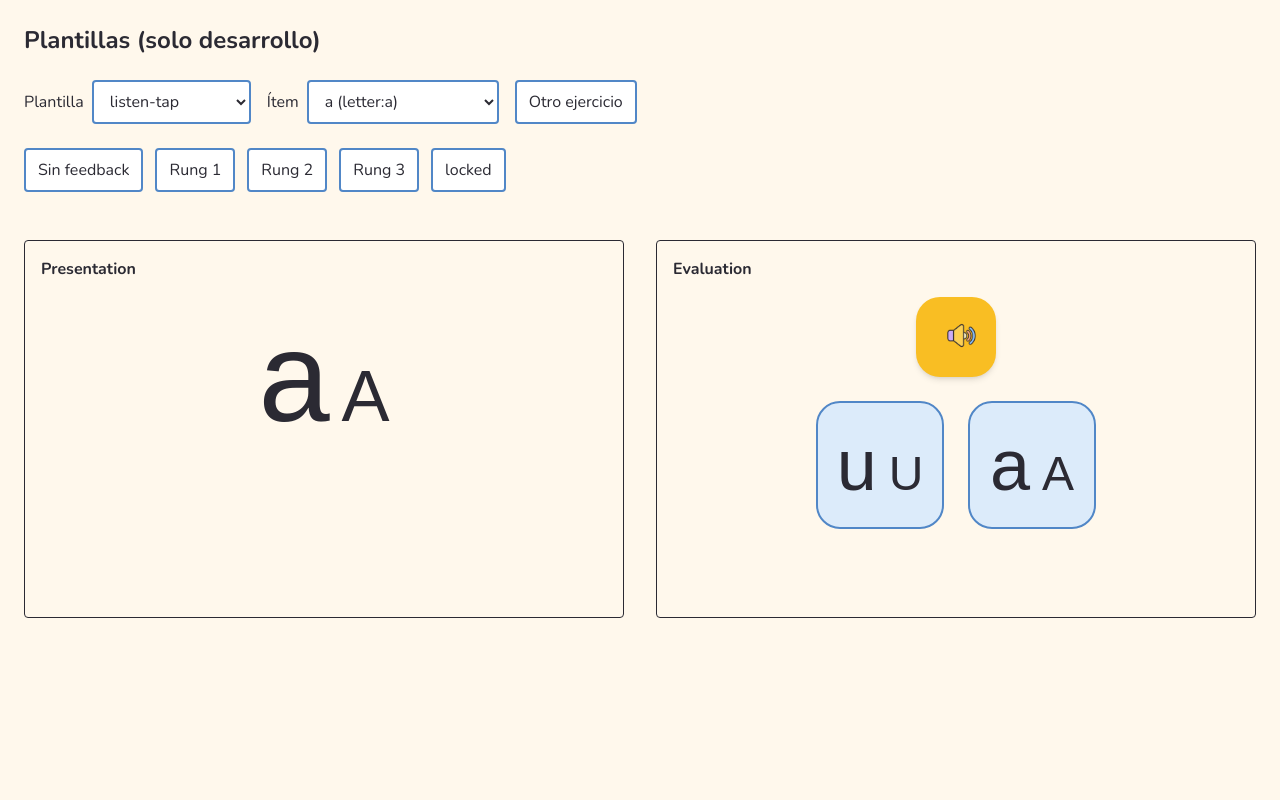
PlantillasDev › W8: las plantillas de voz con un micrófono de guion › «Oído»: tras tocar el micrófono salen los botones del adulto y el veredicto se anota
The image size is (1280, 800).
Select "read-word" in the dropdown labelled "Plantilla" at (171, 102), box [92,80,251,124]
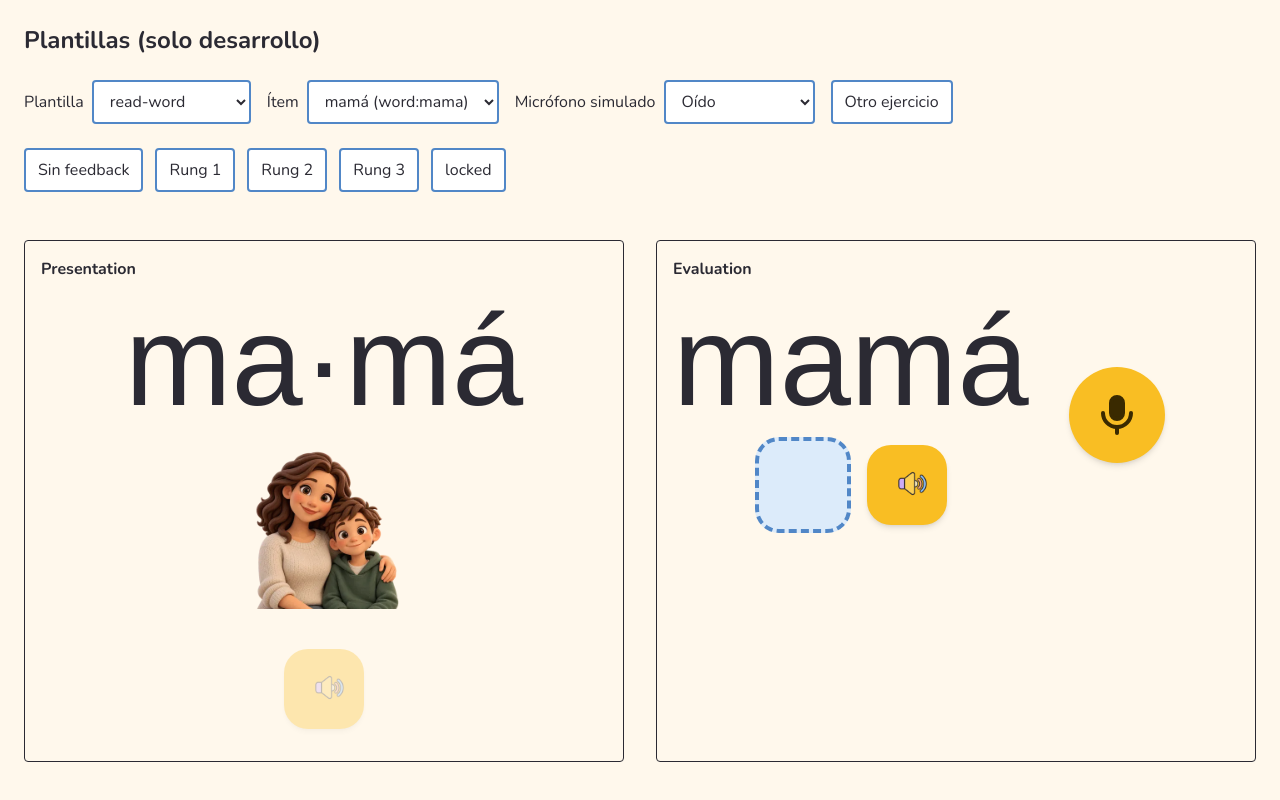
Select "Oído" in the dropdown labelled "Micrófono simulado" at (739, 102), box [664,80,814,124]
Click the button named "Micrófono" at (1117, 415), box [1069,367,1165,463]
Wait 950 ms
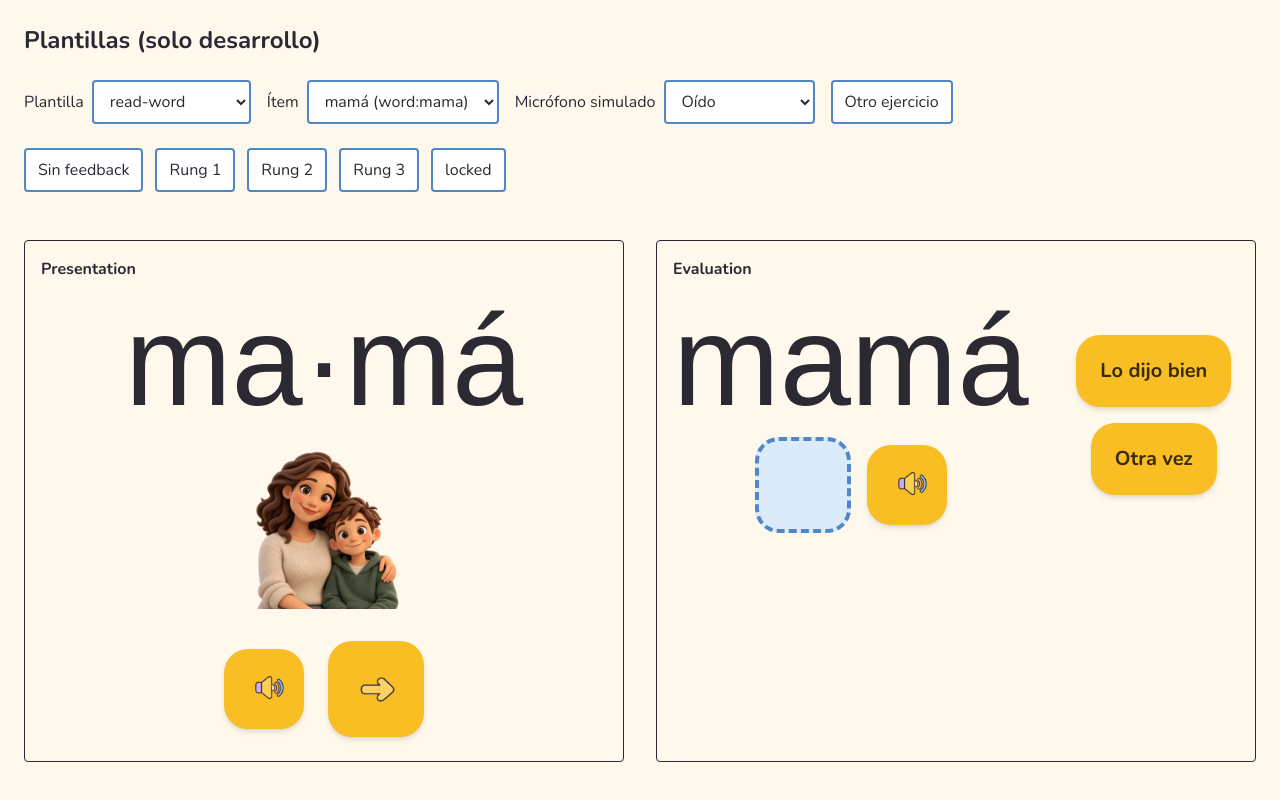
Click the button "Lo dijo bien" at (1154, 371), box [1076,335,1231,407]
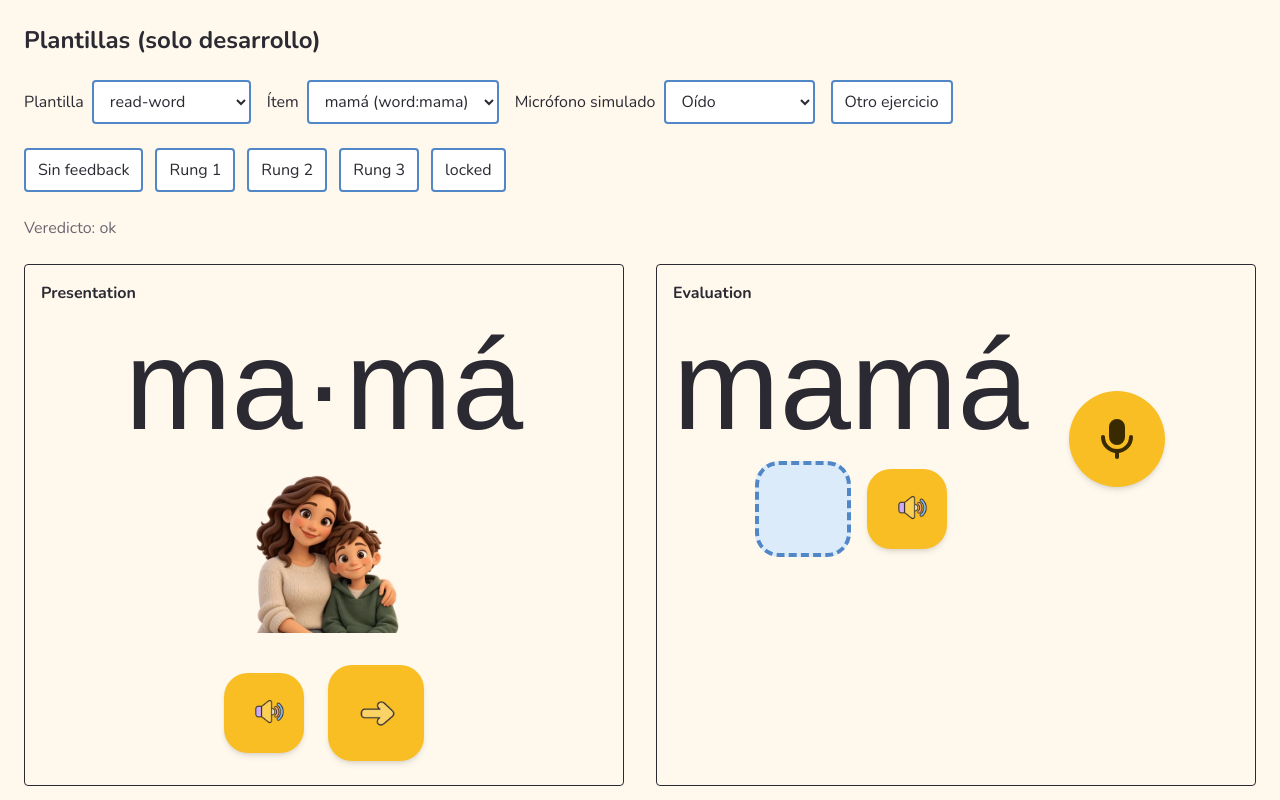
Now the message reads "Veredicto: ok", box [24,217,116,239]
